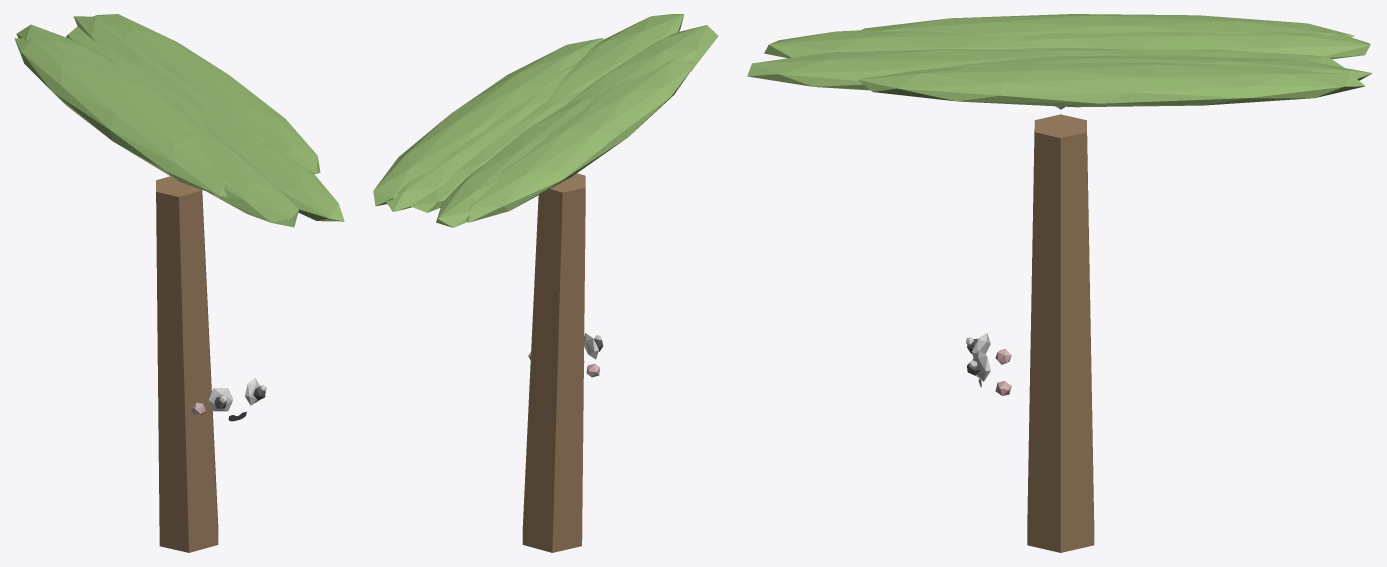
Rendered from chamaedorea-elegans.glb.
3 views of the same model, side by side, from view 1: azimuth 30°, elevation 25°; view 2: azimuth 150°, elevation 25°; view 3: azimuth 270°, elevation 25° (orthographic). The views are drawn at different scales.
Visible parts, largest first — view 1: trunk, frond3, frond0, frond1, frond2, frond4, frond6, frond5; view 2: trunk, frond3, frond0, frond4, frond1, frond6, frond2, frond5; view 3: trunk, frond0, frond3, frond1, frond4, frond2, frond6, frond5.
Part boxes in pixels (<box>): trunk: <box>156,176,218,552</box>; frond3: <box>14,38,227,196</box>; frond0: <box>93,14,320,174</box>; frond1: <box>197,111,344,221</box>; frond2: <box>178,118,298,227</box>; frond4: <box>16,24,193,131</box>; frond6: <box>73,16,267,144</box>; frond5: <box>66,26,208,132</box>; trunk: <box>522,173,585,552</box>; frond3: <box>466,60,695,222</box>; frond0: <box>373,38,603,206</box>; frond4: <box>436,95,594,227</box>; frond1: <box>545,14,684,103</box>; frond6: <box>386,63,576,211</box>; frond2: <box>565,25,718,105</box>; frond5: <box>411,91,581,212</box>; trunk: <box>1027,114,1094,552</box>; frond0: <box>858,62,1365,107</box>; frond3: <box>861,14,1354,37</box>; frond1: <box>747,49,1056,90</box>; frond4: <box>1013,31,1370,59</box>; frond2: <box>764,29,1050,58</box>; frond6: <box>941,55,1372,80</box>; frond5: <box>1006,48,1344,67</box>.
Size of the model in its own units: 0.2321 by 0.6302 by 0.7266.
